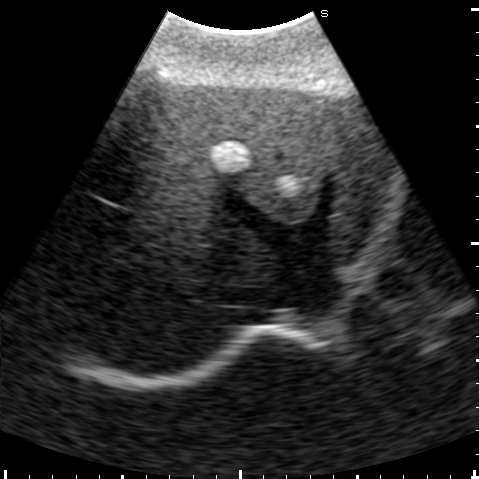S2: (333, 106, 390, 265)
S4: (122, 79, 327, 224)
S7: (25, 221, 234, 376)
S8: (77, 123, 278, 285)
Tumor: (210, 141, 250, 173), (276, 175, 302, 195)
